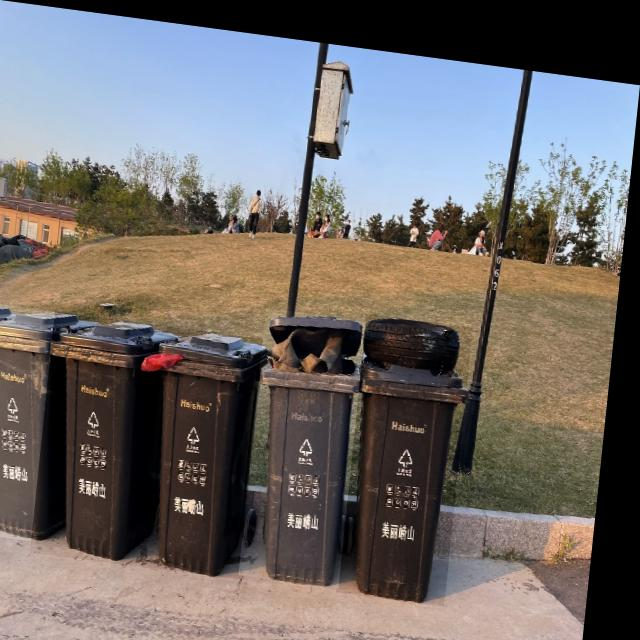garbage_bin: (42, 309, 186, 563), (0, 301, 105, 544), (0, 302, 19, 521)
overflow: (348, 302, 479, 593), (130, 318, 274, 571), (250, 300, 372, 577)
